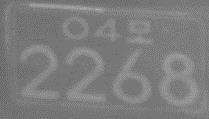0: (61, 14, 90, 41)
2: (63, 45, 106, 103), (20, 42, 60, 101)
4: (94, 16, 120, 42)
6: (110, 47, 152, 106)
8: (159, 51, 196, 108)
모: (127, 19, 151, 44)
